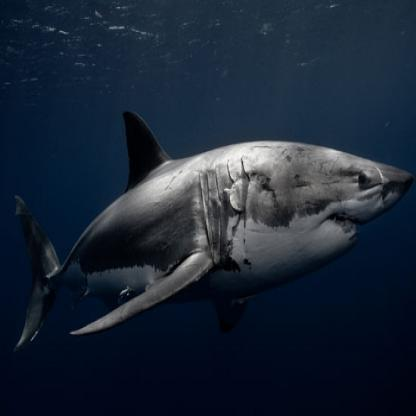white-shark: (13, 110, 415, 356)
